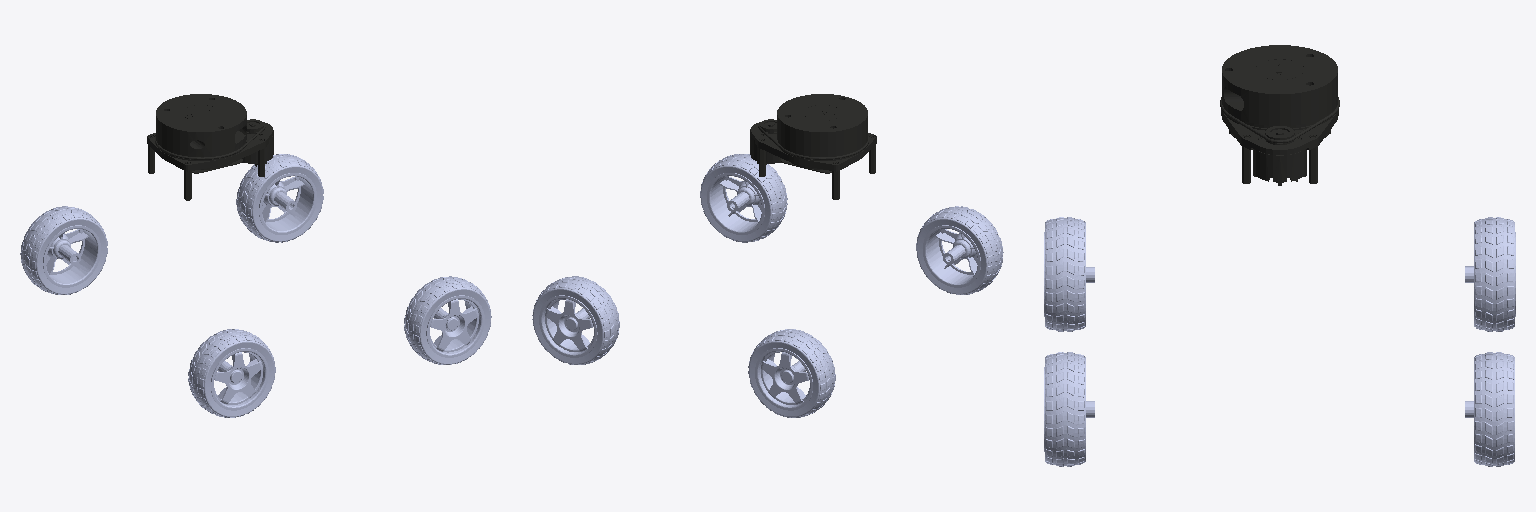
The robot description file, URDF, robot "Ensamblaje_URDF_Final":
<?xml version="1.0" encoding="utf-8"?>
<robot name="Ensamblaje_URDF_Final">
  <link name="base_link">
    <inertial>
      <origin xyz="-0.021385397291191 5.25169810653347E-06 0.0469766803177353" rpy="0 0 0" />
      <mass value="1.61129016278306" />
      <inertia ixx="0.00729579790366393" ixy="-1.00730993267901E-08" ixz="4.04800061291069E-05" iyy="0.0102401657963008" iyz="1.18114222568118E-08" izz="0.0171542213638773" />
    </inertial>
    <visual>
      <origin xyz="0 0 0" rpy="0 0 0" />
      <geometry>
        <mesh filename="package://simulacion_ri/meshes/base_link.STL" />
      </geometry>
      <material name="">
        <color rgba="0.792156862745098 0.819607843137255 0.933333333333333 1" />
      </material>
    </visual>
    <collision>
      <origin xyz="0 0 0" rpy="0 0 0" />
      <geometry>
        <mesh filename="package://simulacion_ri/meshes/base_link.STL" />
      </geometry>
    </collision>
  </link>

  <link name="base_footprint"/>

  <joint name="base_footprint_joint" type="fixed">
    <parent link="base_link"/>
    <child link="base_footprint"/>
    <origin xyz="0 0 0" rpy="0 0 0"/>
  </joint>

  <link name="rueda_delante_izquierda_link">
    <inertial>
      <origin xyz="4.4236E-09 -0.011457 -1.8099E-08" rpy="0 0 0" />
      <mass value="0.16695" />
      <inertia ixx="6.7293E-05" ixy="-7.7682E-13" ixz="-1.0817E-09" iyy="0.00011321" iyz="3.1219E-12" izz="6.7296E-05" />
    </inertial>
    <visual>
      <origin xyz="0 0 0" rpy="0 0 0" />
      <geometry>
        <mesh filename="package://simulacion_ri/meshes/rueda_delante_izquierda_link.STL" />
      </geometry>
      <material name="">
        <color rgba="0.79216 0.81961 0.93333 1" />
      </material>
    </visual>
    <collision>
      <origin xyz="0 0 0" rpy="0 0 0" />
      <geometry>
        <mesh filename="package://simulacion_ri/meshes/rueda_delante_izquierda_link.STL" />
      </geometry>
    </collision>
  </link>

  <joint name="rueda_delante_izquierda_joint" type="continuous">
    <origin xyz="0.090125 0.14065 0.0125" rpy="0 0 0" />
    <parent link="base_link" />
    <child link="rueda_delante_izquierda_link" />
    <axis xyz="0 1 0" />
    <dynamics damping="0.1" friction="0.1"/>
    <limit effort="10" velocity="18.85" />
  </joint>

  <link name="rueda_delante_derecha_link">
    <inertial>
      <origin xyz="-1.8593E-08 0.011457 -1.3155E-09" rpy="0 0 0" />
      <mass value="0.16695" />
      <inertia ixx="6.7296E-05" ixy="-3.2303E-12" ixz="5.9539E-12" iyy="0.00011321" iyz="-2.4005E-13" izz="6.7293E-05" />
    </inertial>
    <visual>
      <origin xyz="0 0 0" rpy="0 0 0" />
      <geometry>
        <mesh filename="package://simulacion_ri/meshes/rueda_delante_derecha_link.STL" />
      </geometry>
      <material name="">
        <color rgba="0.79216 0.81961 0.93333 1" />
      </material>
    </visual>
    <collision>
      <origin xyz="0 0 0" rpy="0 0 0" />
      <geometry>
        <mesh filename="package://simulacion_ri/meshes/rueda_delante_derecha_link.STL" />
      </geometry>
    </collision>
  </link>

  <joint name="rueda_delante_derecha_joint" type="continuous">
    <origin xyz="0.090125 -0.14075 0.0125" rpy="0 0 0" />
    <parent link="base_link" />
    <child link="rueda_delante_derecha_link" />
    <axis xyz="0 1 0" />
    <dynamics damping="0.1" friction="0.1"/>
    <limit effort="10" velocity="18.85" />
  </joint>

  <link name="rueda_trasera_izquierda_link">
    <inertial>
      <origin xyz="-1.5737E-08 -0.011457 -9.9717E-09" rpy="0 0 0" />
      <mass value="0.16695" />
      <inertia ixx="6.7295E-05" ixy="2.6991E-12" ixz="1.7823E-09" iyy="0.00011321" iyz="1.7238E-12" izz="6.7294E-05" />
    </inertial>
    <visual>
      <origin xyz="0 0 0" rpy="0 0 0" />
      <geometry>
        <mesh filename="package://simulacion_ri/meshes/rueda_trasera_izquierda_link.STL" />
      </geometry>
      <material name="">
        <color rgba="0.79216 0.81961 0.93333 1" />
      </material>
    </visual>
    <collision>
      <origin xyz="0 0 0" rpy="0 0 0" />
      <geometry>
        <mesh filename="package://simulacion_ri/meshes/rueda_trasera_izquierda_link.STL" />
      </geometry>
    </collision>
  </link>

  <joint name="rueda_trasera_izquierda_joint" type="continuous">
    <origin xyz="-0.10111 0.14075 0.0125" rpy="0 0 0" />
    <parent link="base_link" />
    <child link="rueda_trasera_izquierda_link" />
    <axis xyz="0 1 0" />
    <dynamics damping="0.1" friction="0.1"/>
    <limit effort="10" velocity="18.85" />
  </joint>

  <link name="rueda_trasera_derecha_link">
    <inertial>
      <origin xyz="-1.8576E-08 0.011457 -1.4516E-09" rpy="0 0 0" />
      <mass value="0.16695" />
      <inertia ixx="6.7296E-05" ixy="-3.198E-12" ixz="3.2541E-11" iyy="0.00011321" iyz="-2.4683E-13" izz="6.7293E-05" />
    </inertial>
    <visual>
      <origin xyz="0 0 0" rpy="0 0 0" />
      <geometry>
        <mesh filename="package://simulacion_ri/meshes/rueda_trasera_derecha_link.STL" />
      </geometry>
      <material name="">
        <color rgba="0.79216 0.81961 0.93333 1" />
      </material>
    </visual>
    <collision>
      <origin xyz="0 0 0" rpy="0 0 0" />
      <geometry>
        <mesh filename="package://simulacion_ri/meshes/rueda_trasera_derecha_link.STL" />
      </geometry>
    </collision>
  </link>

  <joint name="rueda_trasera_derecha_joint" type="continuous">
    <origin xyz="-0.10111 -0.14075 0.0125" rpy="0 0 0" />
    <parent link="base_link" />
    <child link="rueda_trasera_derecha_link" />
    <axis xyz="0 1 0" />
    <dynamics damping="0.1" friction="0.1"/>
    <limit effort="10" velocity="18.85" />
  </joint>

  <link name="lidar_link">
    <inertial>
      <origin xyz="0.0051275 0.00059155 -0.019551" rpy="0 0 0" />
      <mass value="0.14165" />
      <inertia ixx="5.691E-05" ixy="-2.879E-07" ixz="1.2475E-05" iyy="8.9322E-05" iyz="-7.2186E-07" izz="0.0001087" />
    </inertial>
    <visual>
      <origin xyz="0 0 0" rpy="0 0 0" />
      <geometry>
        <mesh filename="package://simulacion_ri/meshes/lidar_link.STL" />
      </geometry>
      <material name="">
        <color rgba="0.21176 0.21176 0.20392 1" />
      </material>
    </visual>
    <collision>
      <origin xyz="0 0 0" rpy="0 0 0" />
      <geometry>
        <mesh filename="package://simulacion_ri/meshes/lidar_link.STL" />
      </geometry>
    </collision>
  </link>

  <joint name="lidar_joint" type="fixed">
    <origin xyz="-0.0539 -3.5032E-05 0.17" rpy="0 0 0" />
    <parent link="base_link" />
    <child link="lidar_link" />
    <axis xyz="0 0 0" />
  </joint>

  <gazebo>
    <plugin filename="gz-sim-diff-drive-system" name="gz::sim::systems::DiffDrive">
      <left_joint>rueda_delante_izquierda_joint</left_joint>
      <left_joint>rueda_trasera_izquierda_joint</left_joint>
      <right_joint>rueda_delante_derecha_joint</right_joint>
      <right_joint>rueda_trasera_derecha_joint</right_joint>
      <wheel_separation>0.2814</wheel_separation>
      <wheel_radius>0.0325</wheel_radius>
      <topic>cmd_vel</topic>
      <odom_topic>odom</odom_topic>
      <frame_id>odom</frame_id>
      <child_frame_id>base_link</child_frame_id>
      <odom_publish_frequency>20</odom_publish_frequency>
      <covariance_x>0.001</covariance_x>
      <covariance_y>0.001</covariance_y>
      <covariance_yaw>0.001</covariance_yaw>
      <publish_odom_tf>true</publish_odom_tf>
    </plugin>

    <plugin filename="gz-sim-joint-state-publisher-system"
            name="gz::sim::systems::JointStatePublisher">
    </plugin>

    <plugin filename="gz-sim-sensors-system" name="gz::sim::systems::Sensors">
      <render_engine>ogre2</render_engine>
    </plugin>
  </gazebo>

  <gazebo reference="lidar_link">
    <sensor name="lidar" type="gpu_lidar">
      <pose>0 0 0 0 0 0</pose>
      <topic>scan</topic>
      <update_rate>10</update_rate>
      <lidar>
        <scan>
          <horizontal>
            <samples>360</samples>
            <resolution>1</resolution>
            <min_angle>-3.14159</min_angle>
            <max_angle>3.14159</max_angle>
          </horizontal>
        </scan>
        <range>
          <min>0.15</min>
          <max>12.0</max>
          <resolution>0.01</resolution>
        </range>
      </lidar>
      <always_on>1</always_on>
      <visualize>true</visualize>
      <frame_id>lidar_link</frame_id>
    </sensor>
  </gazebo>
</robot>

--- What the picture shows (computed from the rendered views, not written in the file) ---
3 views of the same robot in one strip: view 1: azimuth 30°, elevation 25°; view 2: azimuth 150°, elevation 25°; view 3: azimuth 270°, elevation 25° (orthographic).
Model Ensamblaje_URDF_Final with 7 links and 6 joints (4 continuous, 2 fixed), rooted at base_link, posed all joints at 0.
Links seen in each view (by area): view 1: lidar_link, rueda_trasera_derecha_link, rueda_delante_derecha_link, rueda_trasera_izquierda_link, rueda_delante_izquierda_link; view 2: lidar_link, rueda_trasera_izquierda_link, rueda_delante_izquierda_link, rueda_trasera_derecha_link, rueda_delante_derecha_link; view 3: lidar_link, rueda_delante_derecha_link, rueda_trasera_izquierda_link, rueda_trasera_derecha_link, rueda_delante_izquierda_link.
Boxes of the visible links, bbox=[...] form: lidar_link: bbox=[147, 94, 273, 200]; rueda_trasera_derecha_link: bbox=[188, 329, 275, 417]; rueda_delante_derecha_link: bbox=[404, 276, 491, 364]; rueda_trasera_izquierda_link: bbox=[20, 206, 107, 294]; rueda_delante_izquierda_link: bbox=[236, 154, 323, 242]; lidar_link: bbox=[750, 94, 876, 199]; rueda_trasera_izquierda_link: bbox=[748, 329, 835, 417]; rueda_delante_izquierda_link: bbox=[532, 276, 619, 364]; rueda_trasera_derecha_link: bbox=[916, 206, 1003, 294]; rueda_delante_derecha_link: bbox=[700, 154, 787, 242]; lidar_link: bbox=[1220, 45, 1339, 185]; rueda_delante_derecha_link: bbox=[1044, 352, 1094, 466]; rueda_trasera_izquierda_link: bbox=[1465, 217, 1515, 331]; rueda_trasera_derecha_link: bbox=[1044, 217, 1094, 331]; rueda_delante_izquierda_link: bbox=[1465, 352, 1514, 466].
Size in the robot's own frame: 0.2602 by 0.2823 by 0.1919 metres.
5 mesh visuals loaded from 6 distinct referenced files (5 binary STL); not drawn: 1 (reference not matched to a file when rendering).
